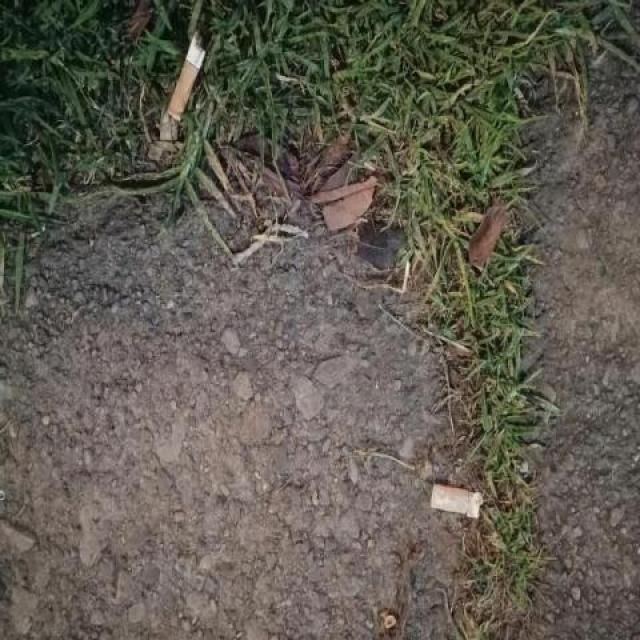non-organic waste: (164, 32, 211, 127), (428, 478, 488, 521)
